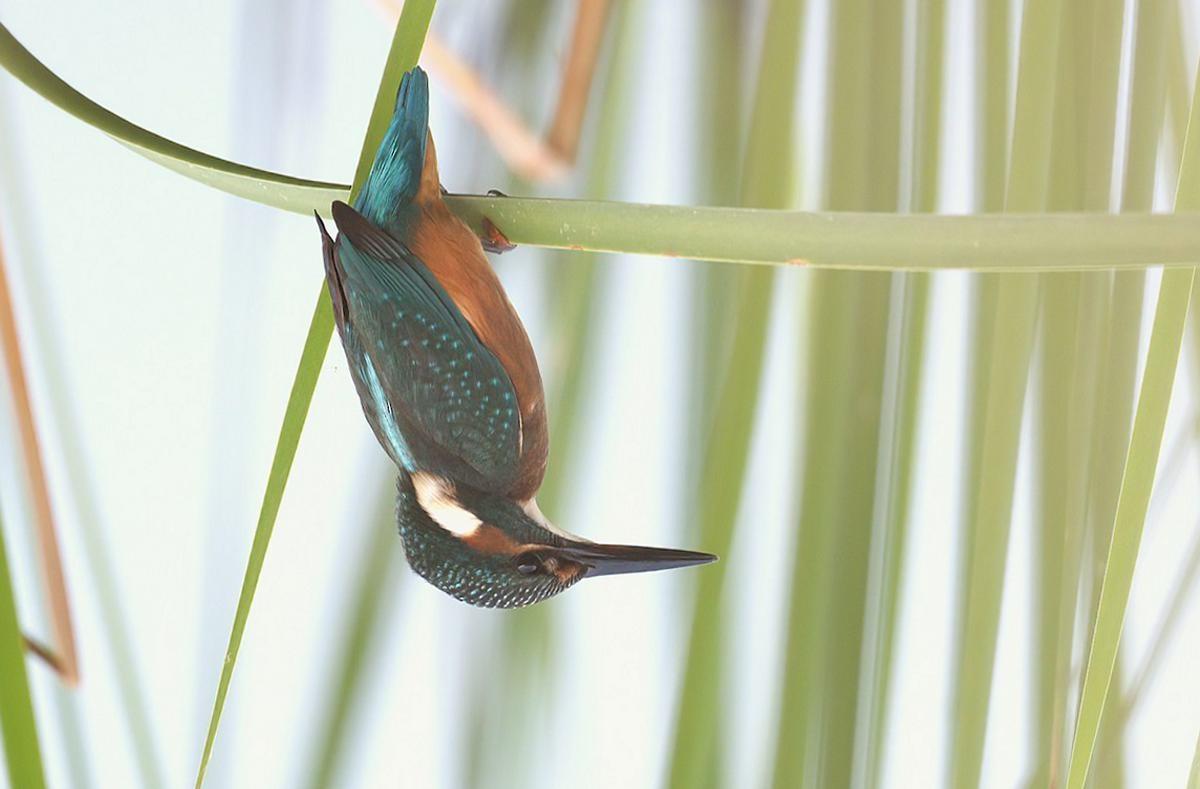kingfisher: (316, 77, 752, 638)
